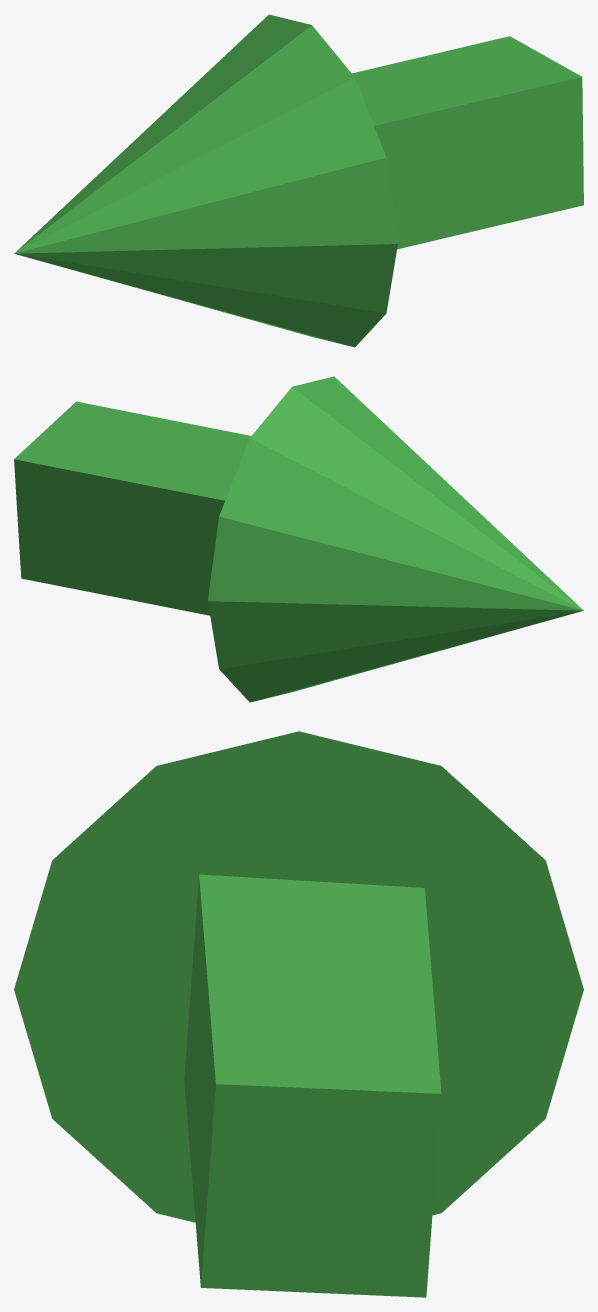
The model's file is arrow.obj.
3 views of the same model, one above another, from view 1: azimuth 30°, elevation 25°; view 2: azimuth 150°, elevation 25°; view 3: azimuth 270°, elevation 25° (orthographic). The views are drawn at different scales.
Visible parts, largest first — view 1: group546483871, group1902505079; view 2: group546483871, group1902505079; view 3: group546483871, group1902505079.
Part boxes in pixels (bbox=[...]): group546483871: bbox=[14, 14, 397, 347]; group1902505079: bbox=[352, 36, 583, 249]; group546483871: bbox=[208, 376, 583, 702]; group1902505079: bbox=[14, 401, 251, 615]; group546483871: bbox=[14, 731, 583, 1222]; group1902505079: bbox=[184, 874, 441, 1297].
Size of the model in its own units: 0.3646 by 0.2 by 0.2.
